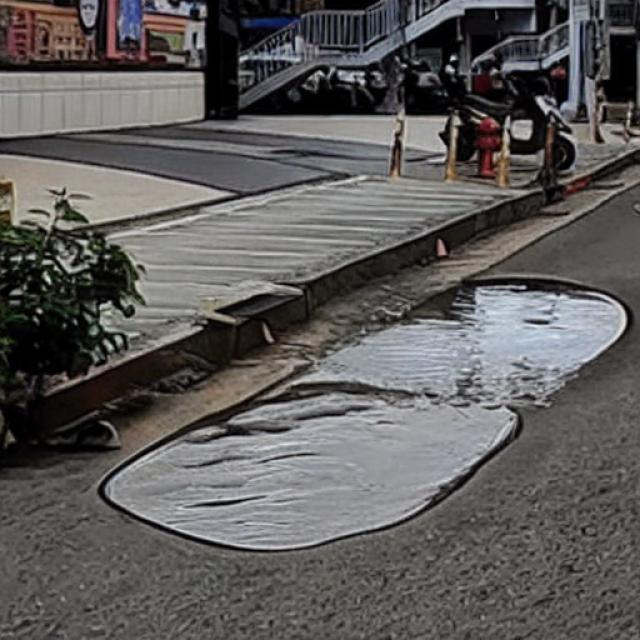puddle: (105, 280, 629, 555)
